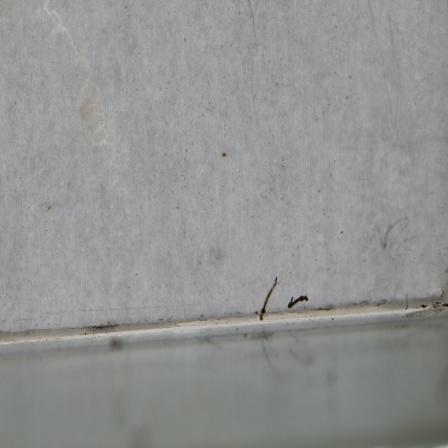Jentik-Nyamuk: (257, 272, 281, 322), (286, 292, 310, 313)
